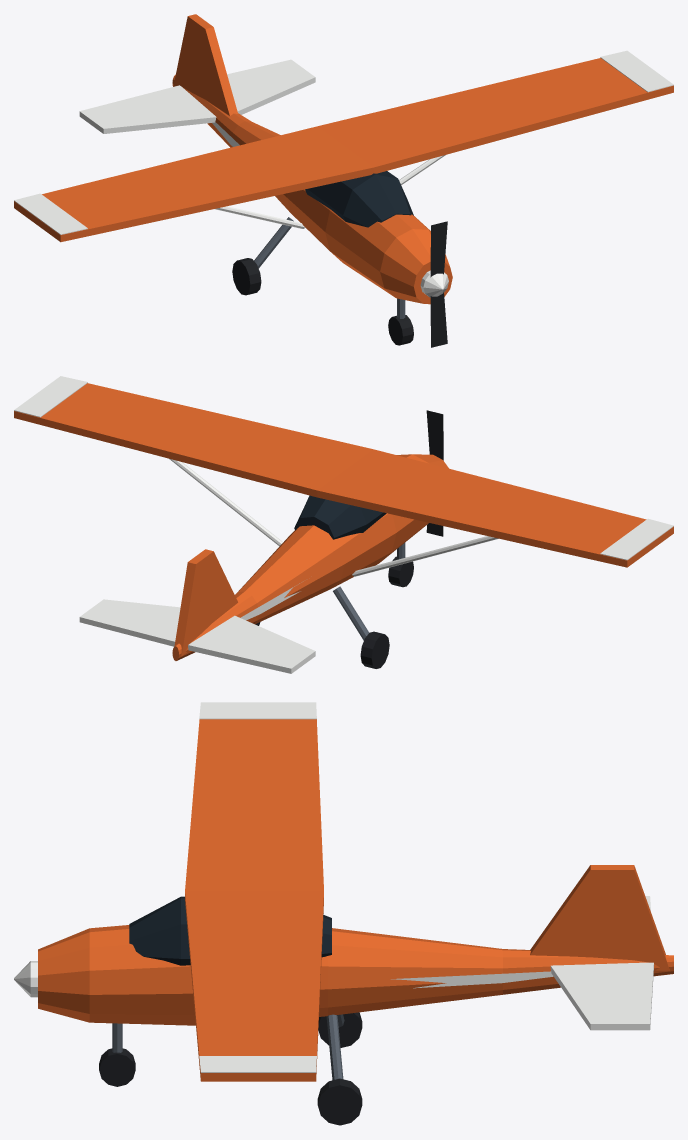
Rendered from prop.glb.
The picture shows the model from 3 angles, top to bottom: view 1: azimuth 30°, elevation 25°; view 2: azimuth 150°, elevation 25°; view 3: azimuth 270°, elevation 25°; orthographic projection. The views are drawn at different scales.
Parts seen in each view (by area): view 1: prop body, prop; view 2: prop body, prop; view 3: prop body.
Boxes of the visible parts, box(x1,y1,x2,y2) form: prop body: box(14, 14, 673, 345); prop: box(420, 221, 448, 347); prop body: box(14, 376, 673, 673); prop: box(426, 410, 443, 536); prop body: box(38, 702, 673, 1125).
Bounding box in the file's own units: 11 × 3 × 8.3.
